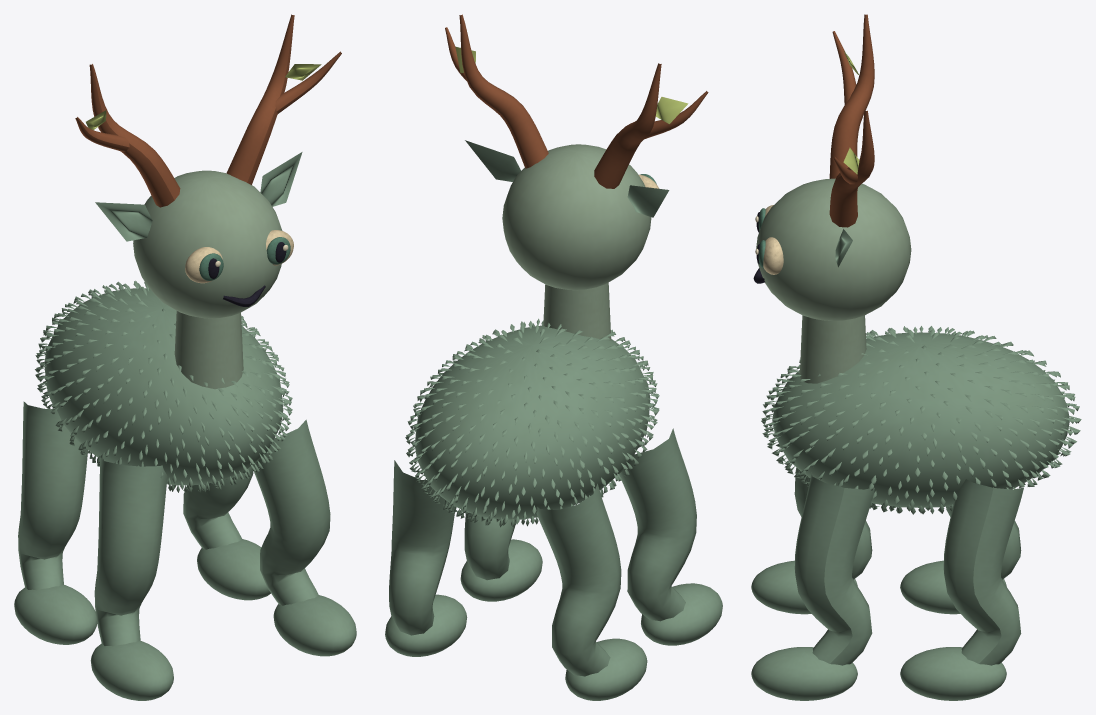
The model's file is ilex.glb.
The picture shows the model from 3 angles, left to right: view 1: azimuth 30°, elevation 25°; view 2: azimuth 150°, elevation 25°; view 3: azimuth 270°, elevation 25°; orthographic projection. The views are drawn at different scales.
Parts seen in each view (by area): view 1: Bent limb (×4), Mossy back, Cranium, Foot (×4), Guard hairs, Antler (×2), Visible neck, Blade (×2), Antler fork (×2), Sclera; view 2: Mossy back, Bent limb (×4), Cranium, Foot (×4), Guard hairs, Antler (×2), Visible neck, Blade (×3), Antler fork; view 3: Mossy back, Bent limb (×4), Cranium, Foot (×4), Guard hairs, Antler (×2), Visible neck, Sclera, Antler fork.
Boxes of the visible parts, left/top/right/bottom form: Bent limb (×4): left=18, top=401, right=330, bottom=646; Mossy back: left=44, top=288, right=283, bottom=485; Cranium: left=133, top=170, right=282, bottom=318; Foot (×4): left=14, top=539, right=356, bottom=700; Guard hairs: left=35, top=280, right=292, bottom=492; Antler (×2): left=89, top=14, right=294, bottom=207; Visible neck: left=174, top=311, right=243, bottom=389; Blade (×2): left=95, top=152, right=302, bottom=241; Antler fork (×2): left=75, top=51, right=341, bottom=151; Sclera: left=185, top=247, right=222, bottom=283; Mossy back: left=415, top=325, right=650, bottom=519; Bent limb (×4): left=389, top=428, right=696, bottom=676; Cranium: left=502, top=144, right=651, bottom=290; Foot (×4): left=385, top=539, right=722, bottom=700; Guard hairs: left=405, top=318, right=659, bottom=527; Antler (×2): left=459, top=14, right=661, bottom=188; Visible neck: left=543, top=282, right=611, bottom=340; Blade (×3): left=465, top=97, right=688, bottom=217; Antler fork: left=644, top=91, right=708, bottom=139; Mossy back: left=772, top=332, right=1069, bottom=507; Bent limb (×4): left=794, top=467, right=1023, bottom=665; Cranium: left=756, top=178, right=911, bottom=320; Foot (×4): left=751, top=560, right=1006, bottom=700; Guard hairs: left=761, top=326, right=1081, bottom=514; Antler (×2): left=829, top=14, right=874, bottom=227; Visible neck: left=799, top=315, right=866, bottom=383; Sclera: left=763, top=237, right=783, bottom=274; Antler fork: left=832, top=31, right=856, bottom=104.
Size of the model in its own units: 0.9265 by 2.02 by 1.02.
Materials: 8 (8 with a texture image).
